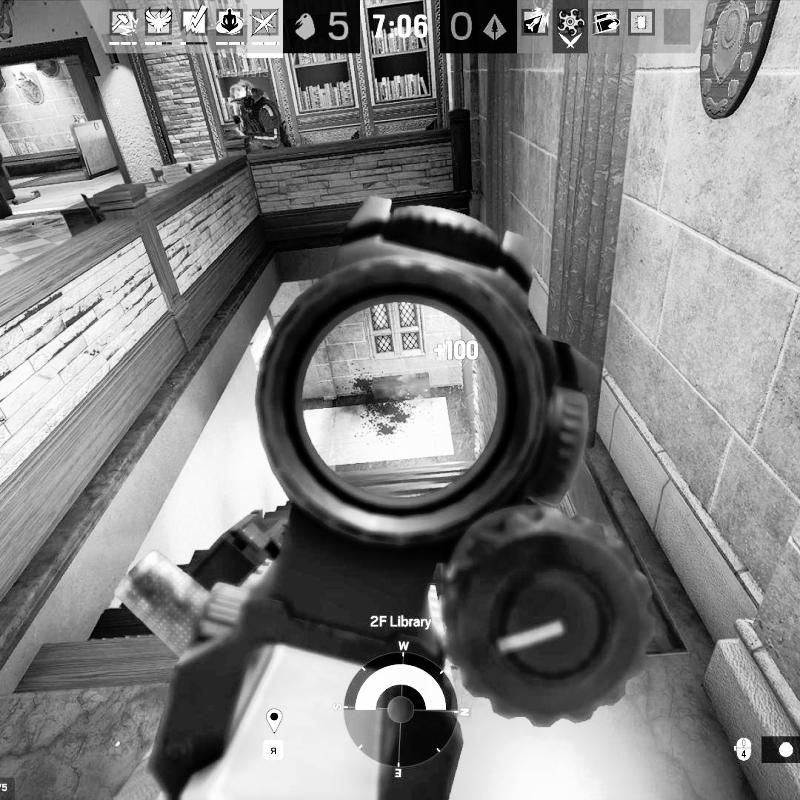Character: (226, 78, 296, 154)
Friend_label: (217, 44, 270, 79)
Head: (231, 80, 260, 112)
